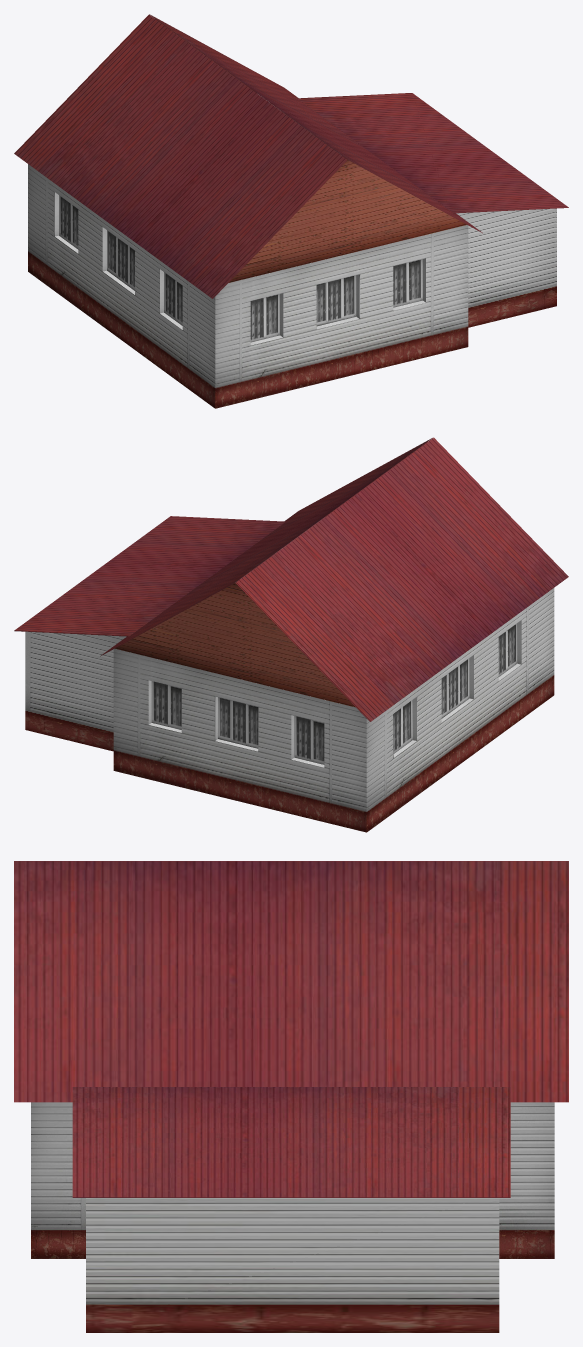
The model's file is r402_tukalinsk_dom2.FBX.
3 renders of one model, top to bottom at view 1: azimuth 30°, elevation 25°; view 2: azimuth 150°, elevation 25°; view 3: azimuth 270°, elevation 25°, orthographic. The views are drawn at different scales.
Parts seen in each view (by area): view 1: r402_tukalinsk_dom2; view 2: r402_tukalinsk_dom2; view 3: r402_tukalinsk_dom2.
Boxes of the visible parts, x1,y1,x2,y2 form: r402_tukalinsk_dom2: [14, 14, 568, 408]; r402_tukalinsk_dom2: [14, 437, 568, 832]; r402_tukalinsk_dom2: [14, 861, 568, 1332].
Bounding box in the file's own units: 12.9 × 11.75 × 7.28.
